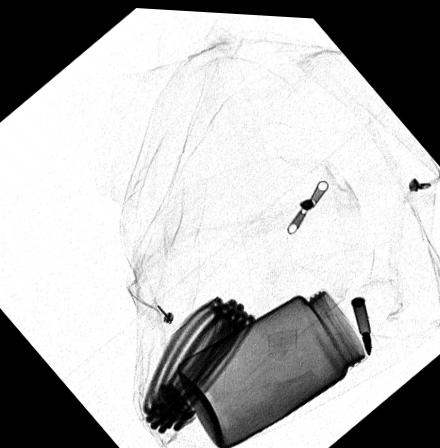Bullet: (348, 291, 371, 351)
